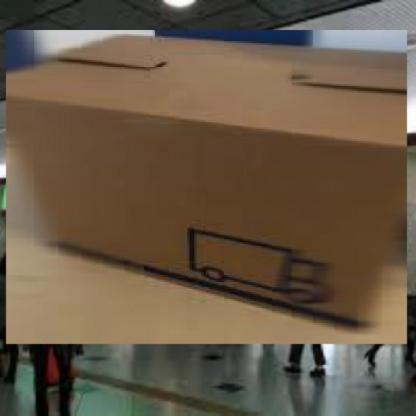box: (0, 26, 414, 349)
